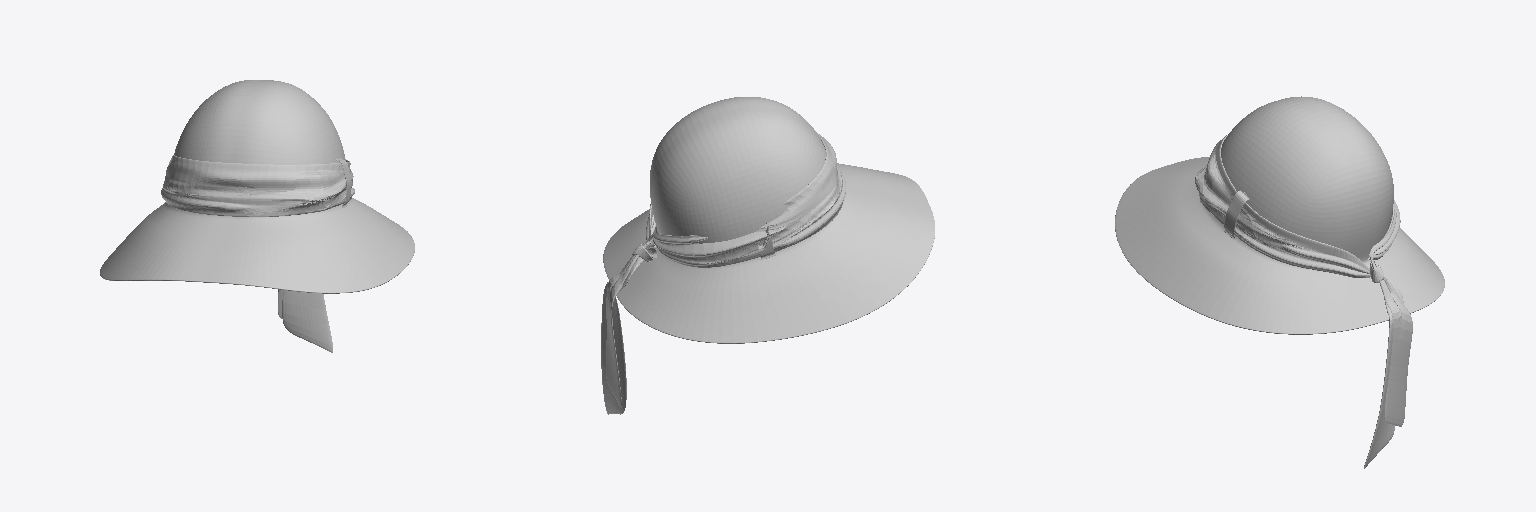
The picture shows the model from 3 angles: view 1: azimuth 30°, elevation 25°; view 2: azimuth 150°, elevation 25°; view 3: azimuth 270°, elevation 25°; orthographic projection.
Parts seen in each view (by area): view 1: AM_102_043_001, AM_102_043_002; view 2: AM_102_043_001, AM_102_043_002; view 3: AM_102_043_001, AM_102_043_002.
Part boxes in pixels (x1,y1,x2,y2): AM_102_043_001: (100, 80, 414, 293); AM_102_043_002: (161, 155, 354, 352); AM_102_043_001: (603, 97, 934, 343); AM_102_043_002: (601, 133, 845, 414); AM_102_043_001: (1115, 96, 1444, 334); AM_102_043_002: (1195, 135, 1412, 468).
Size of the model in its own units: 34.7 by 35.59 by 34.06.